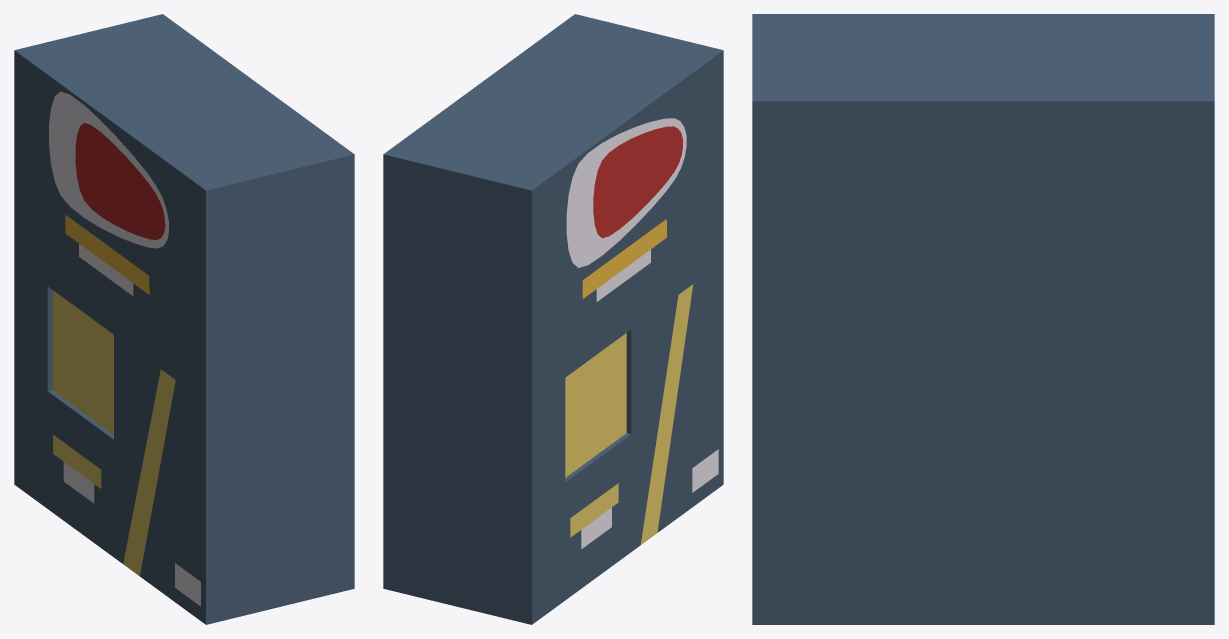
The model's file is P_Pates_V2.fbx.
3 renders of one model, left to right at view 1: azimuth 30°, elevation 25°; view 2: azimuth 150°, elevation 25°; view 3: azimuth 270°, elevation 25°, orthographic. The views are drawn at different scales.
Parts seen in each view (by area): view 1: Box004; view 2: Box004; view 3: Box004.
Part boxes in pixels (x1,y1,x2,y2): Box004: (14, 14, 354, 624); Box004: (383, 14, 723, 624); Box004: (752, 14, 1214, 624).
Bounding box in the file's own units: 4.05 × 11.3 × 9.04.
1 material, 1 textured.
